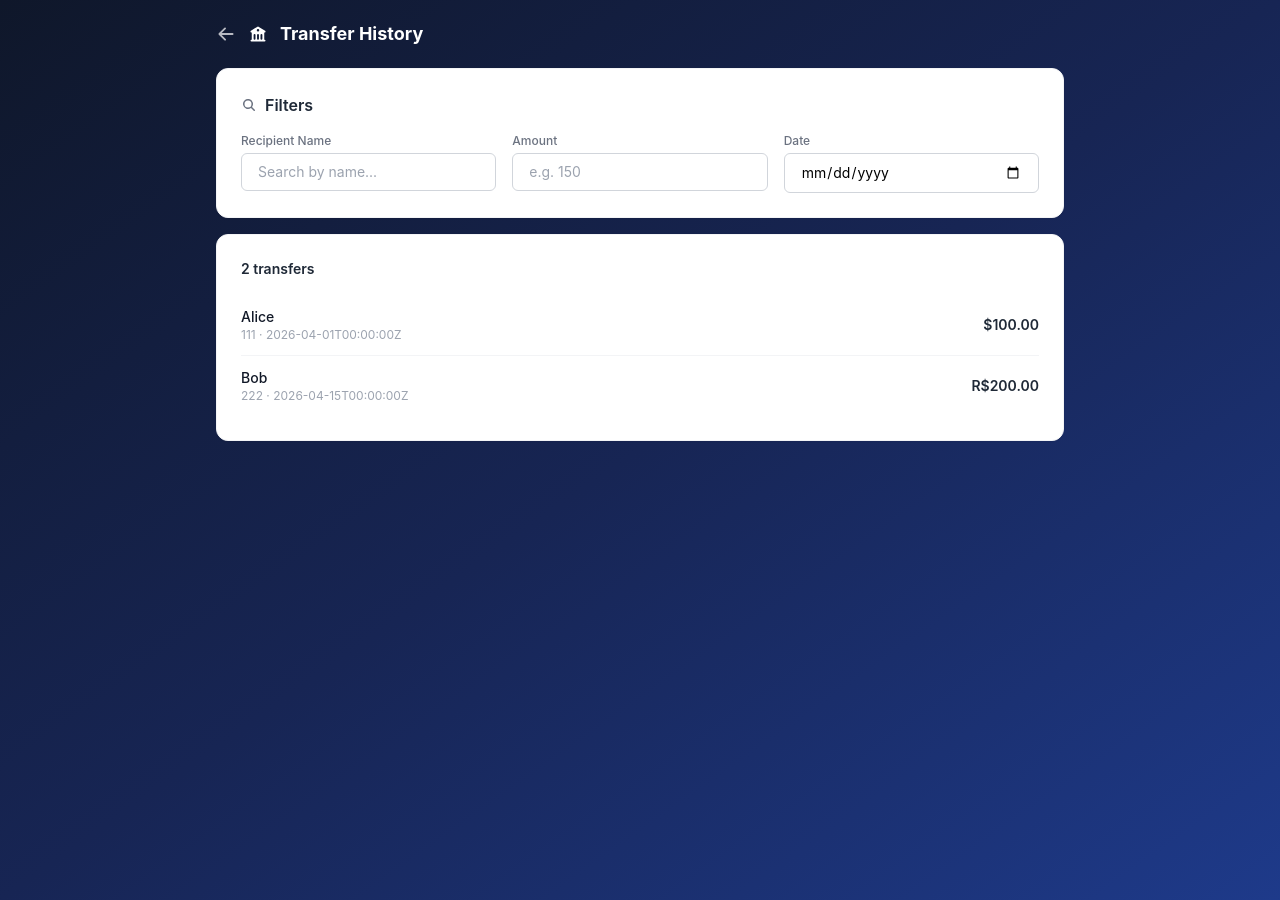
Test case: HistoryTransferPage › filters by recipient name
The width and height of the screenshot is (1280, 900).
Expected: the text "Alice" is shown, [241,308,274,325]
Type "alice" into the field with placeholder "Search by name..." at (369, 172), box [241,153,496,191]
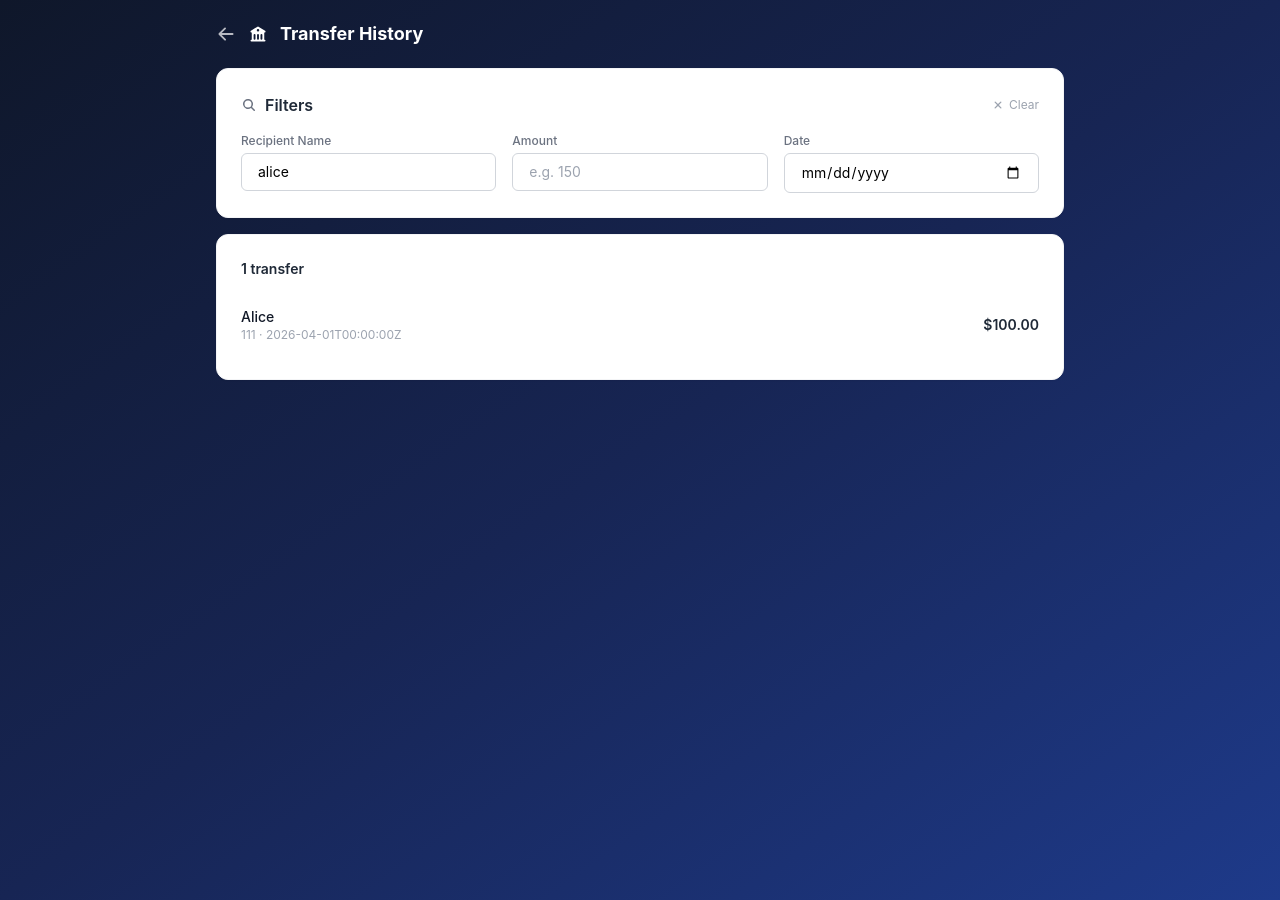
Expected: the text "Alice" is shown, [241,308,274,325]
Now the text "Bob" is gone
